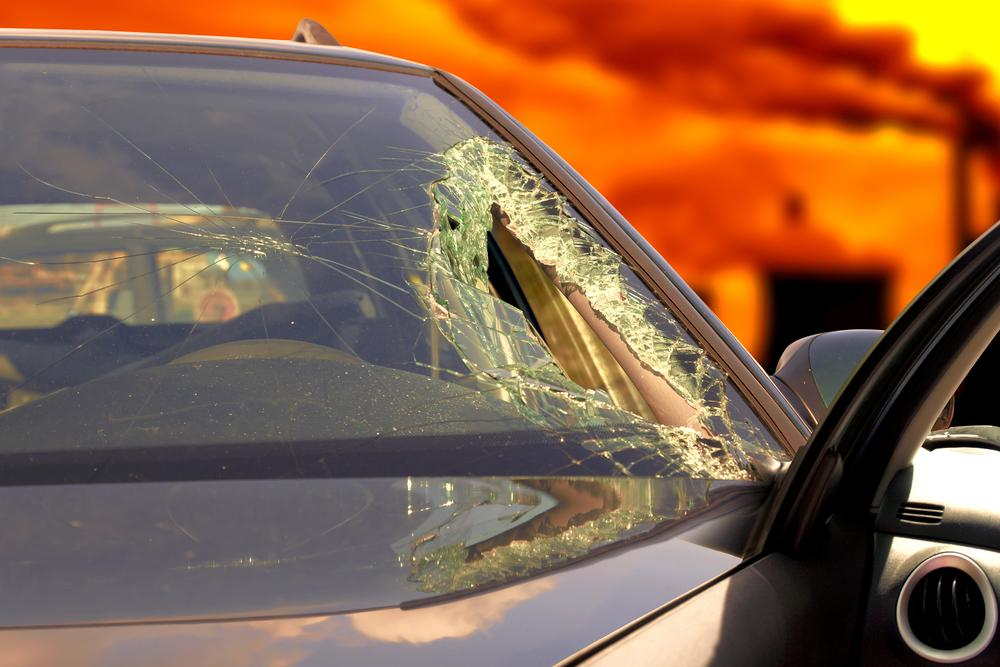glass shatter: (0, 45, 792, 628)
